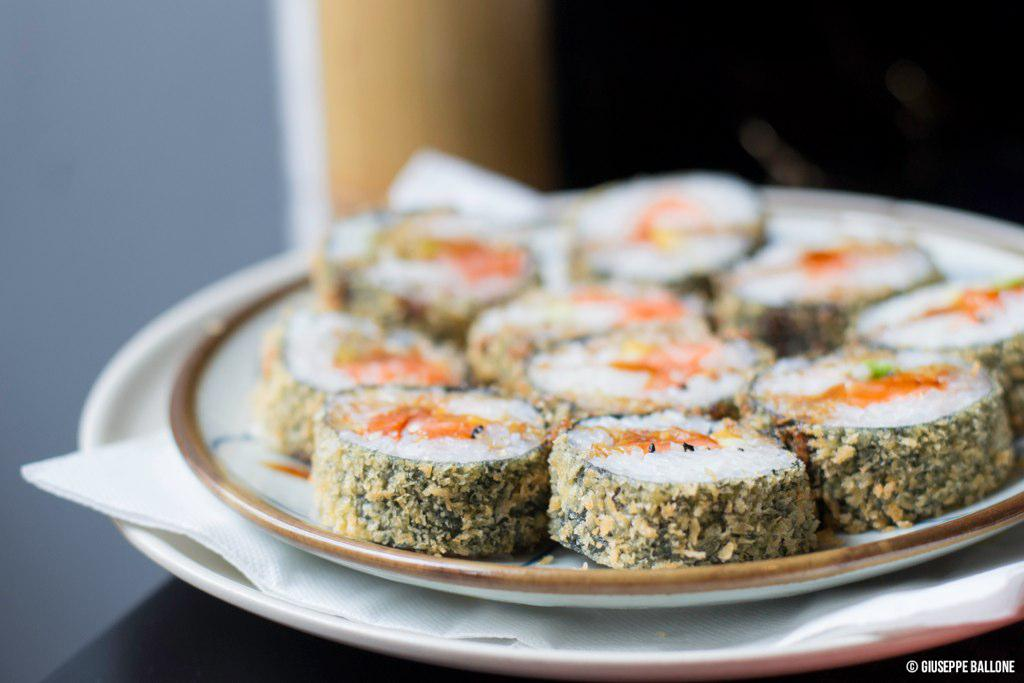sushi: (265, 173, 1023, 580), (320, 387, 557, 560)
